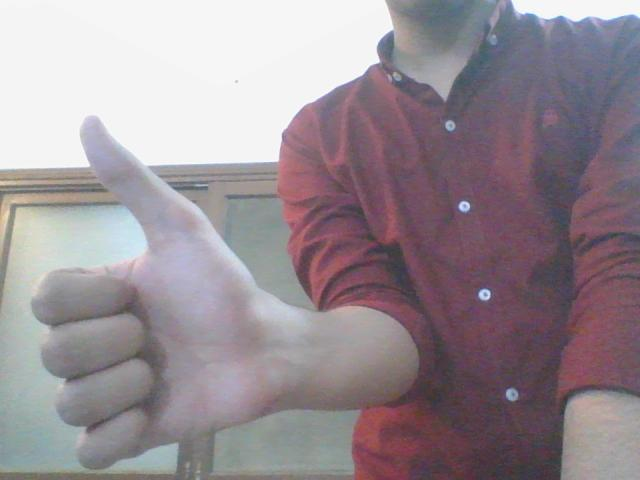thumbs-up: (26, 114, 263, 470)
